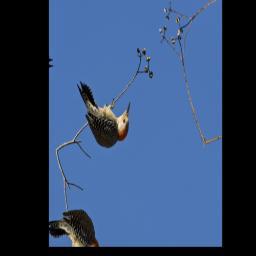Woodpecker: (66, 59, 139, 166)
